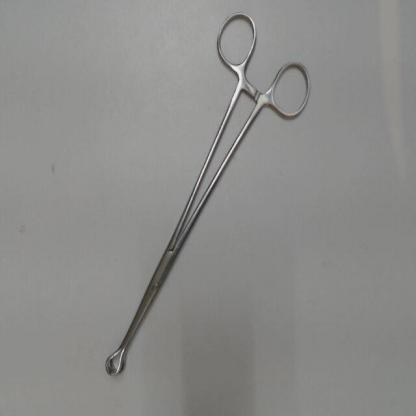8 Babcock Tissue Forceps: (102, 5, 318, 383)
